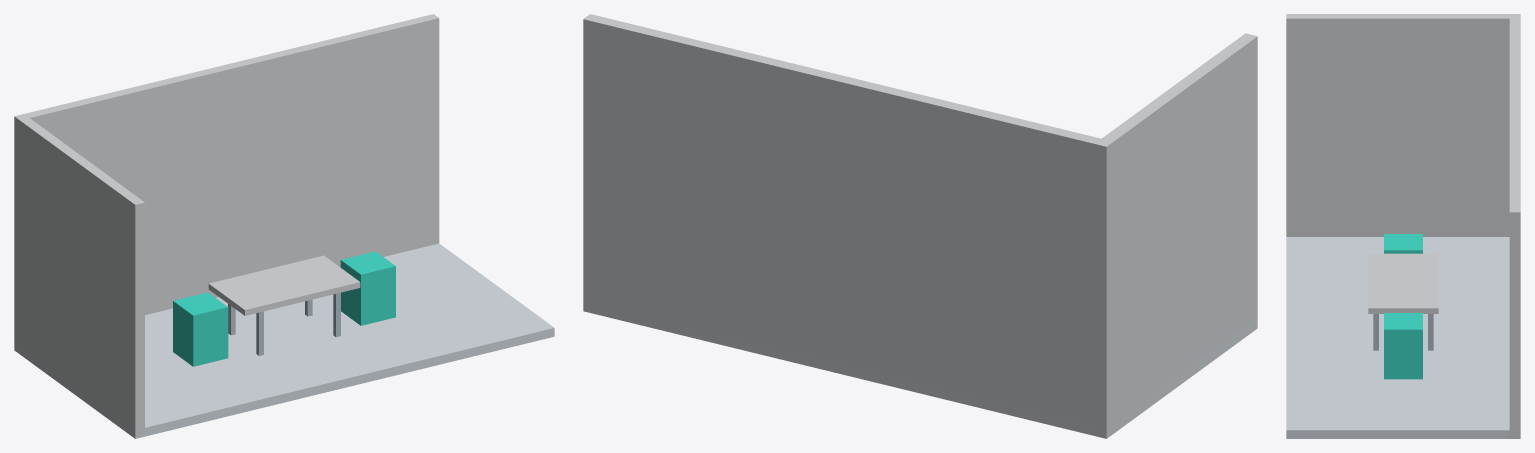
3 renders of one model, left to right at view 1: azimuth 30°, elevation 25°; view 2: azimuth 150°, elevation 25°; view 3: azimuth 270°, elevation 25°, orthographic. The views are drawn at different scales.
Visible parts, largest first — view 1: Exhibition Booth Concept; view 2: Exhibition Booth Concept; view 3: Exhibition Booth Concept.
Boxes of the visible parts, x1,y1,x2,y2 form: Exhibition Booth Concept: (14,14,554,438); Exhibition Booth Concept: (583,14,1257,438); Exhibition Booth Concept: (1286,14,1520,438).
Size of the model in its own units: 6 by 3.2 by 3.
